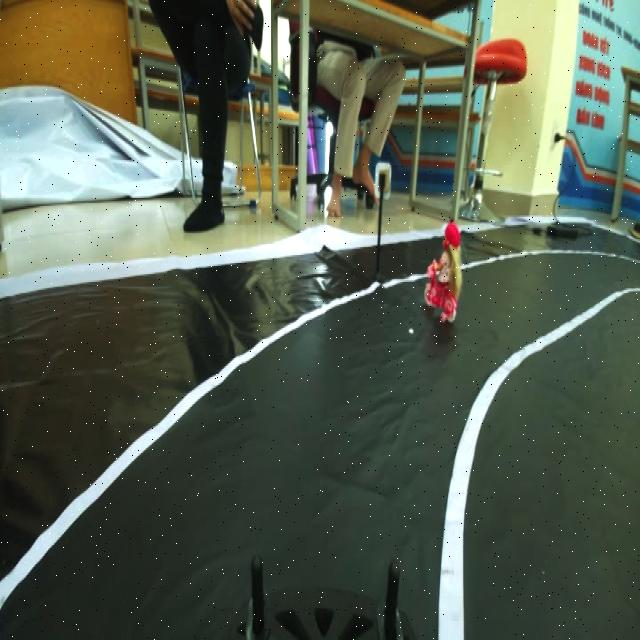pedestrian: (424, 215, 469, 330)
